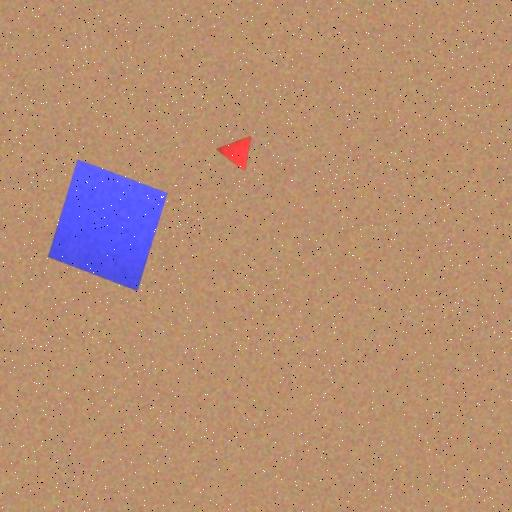BLUE_SQUARE: (47, 158, 168, 292)
